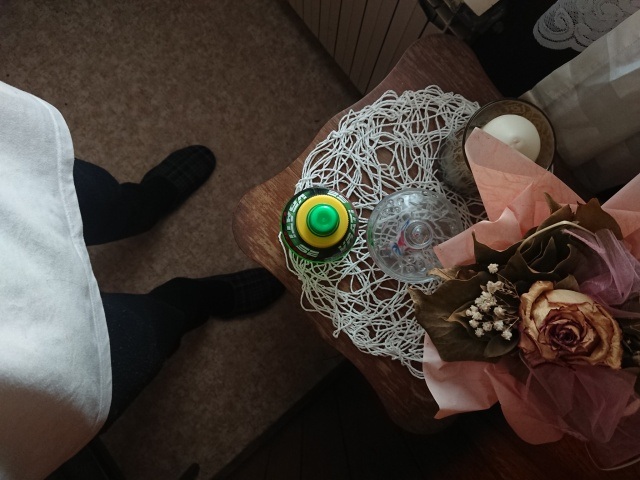Vindi Iso Sport Lemon-Grapefruit 500mL: (278, 184, 362, 266)
